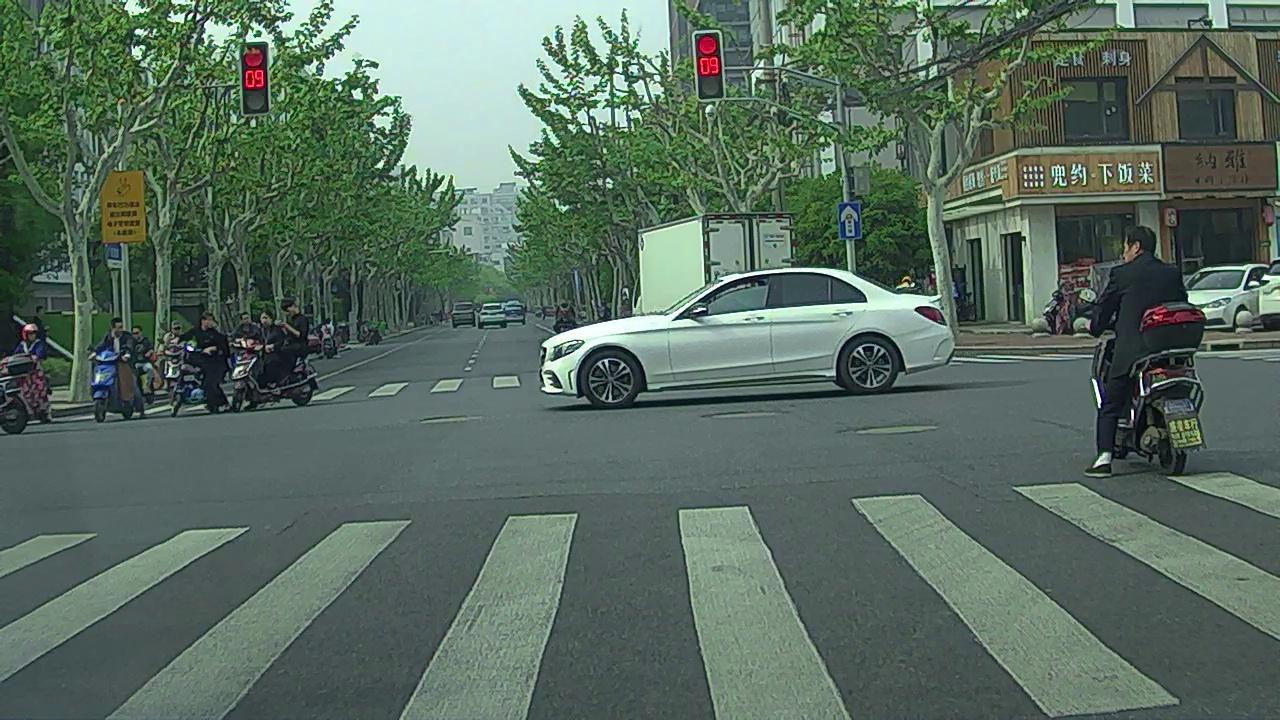traffic_light: (693, 32, 723, 98), (242, 42, 269, 111)
